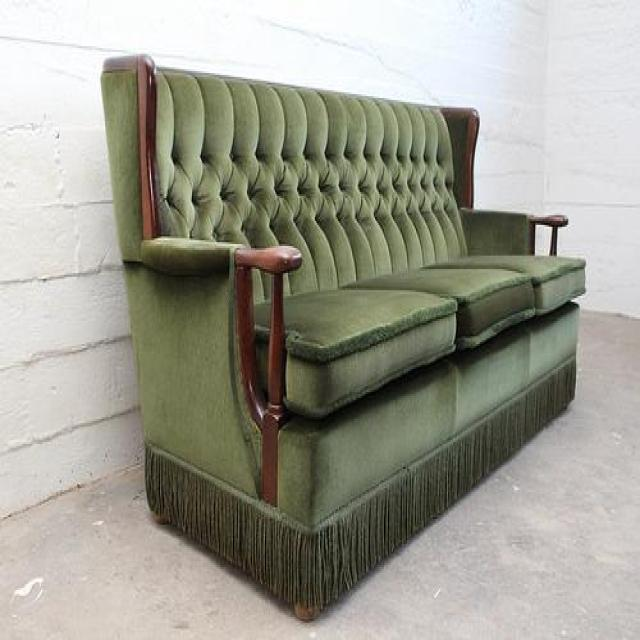sofa: (97, 50, 588, 620)
